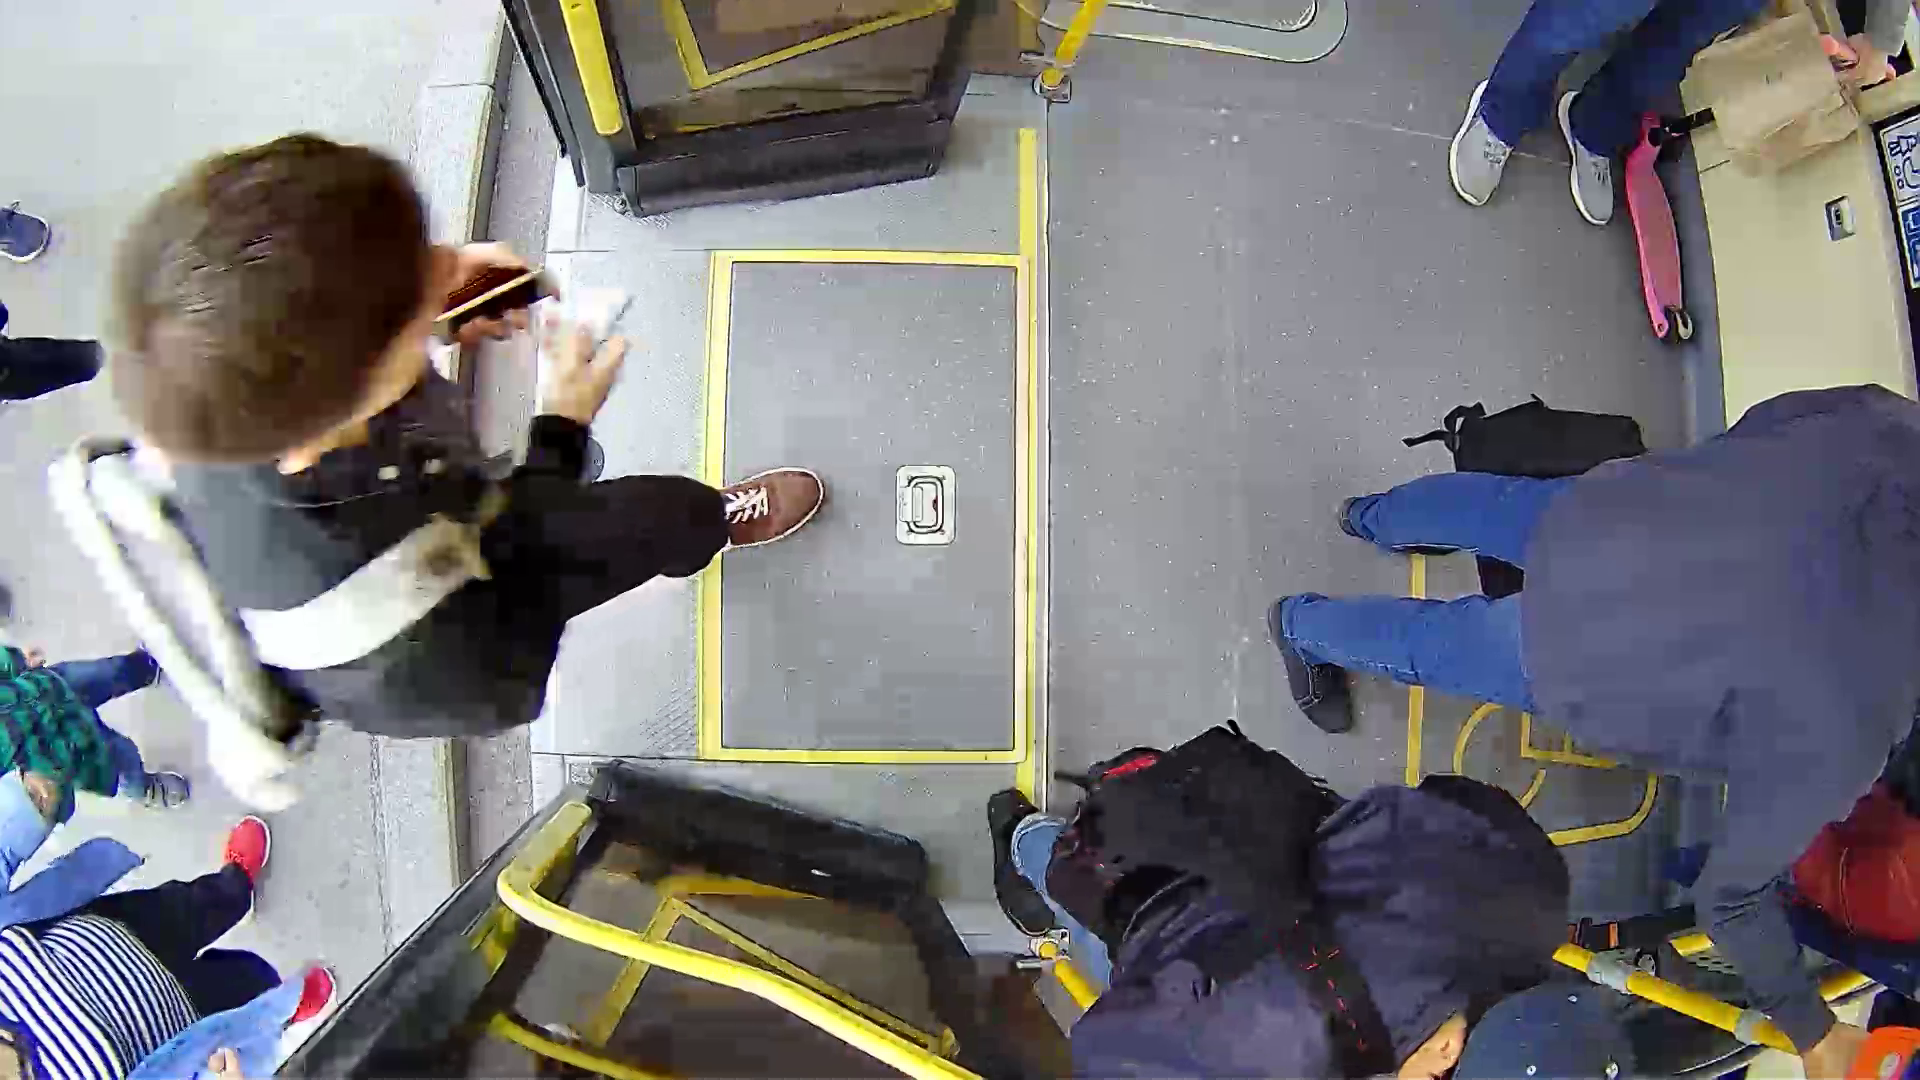person: (124, 129, 1002, 773)
